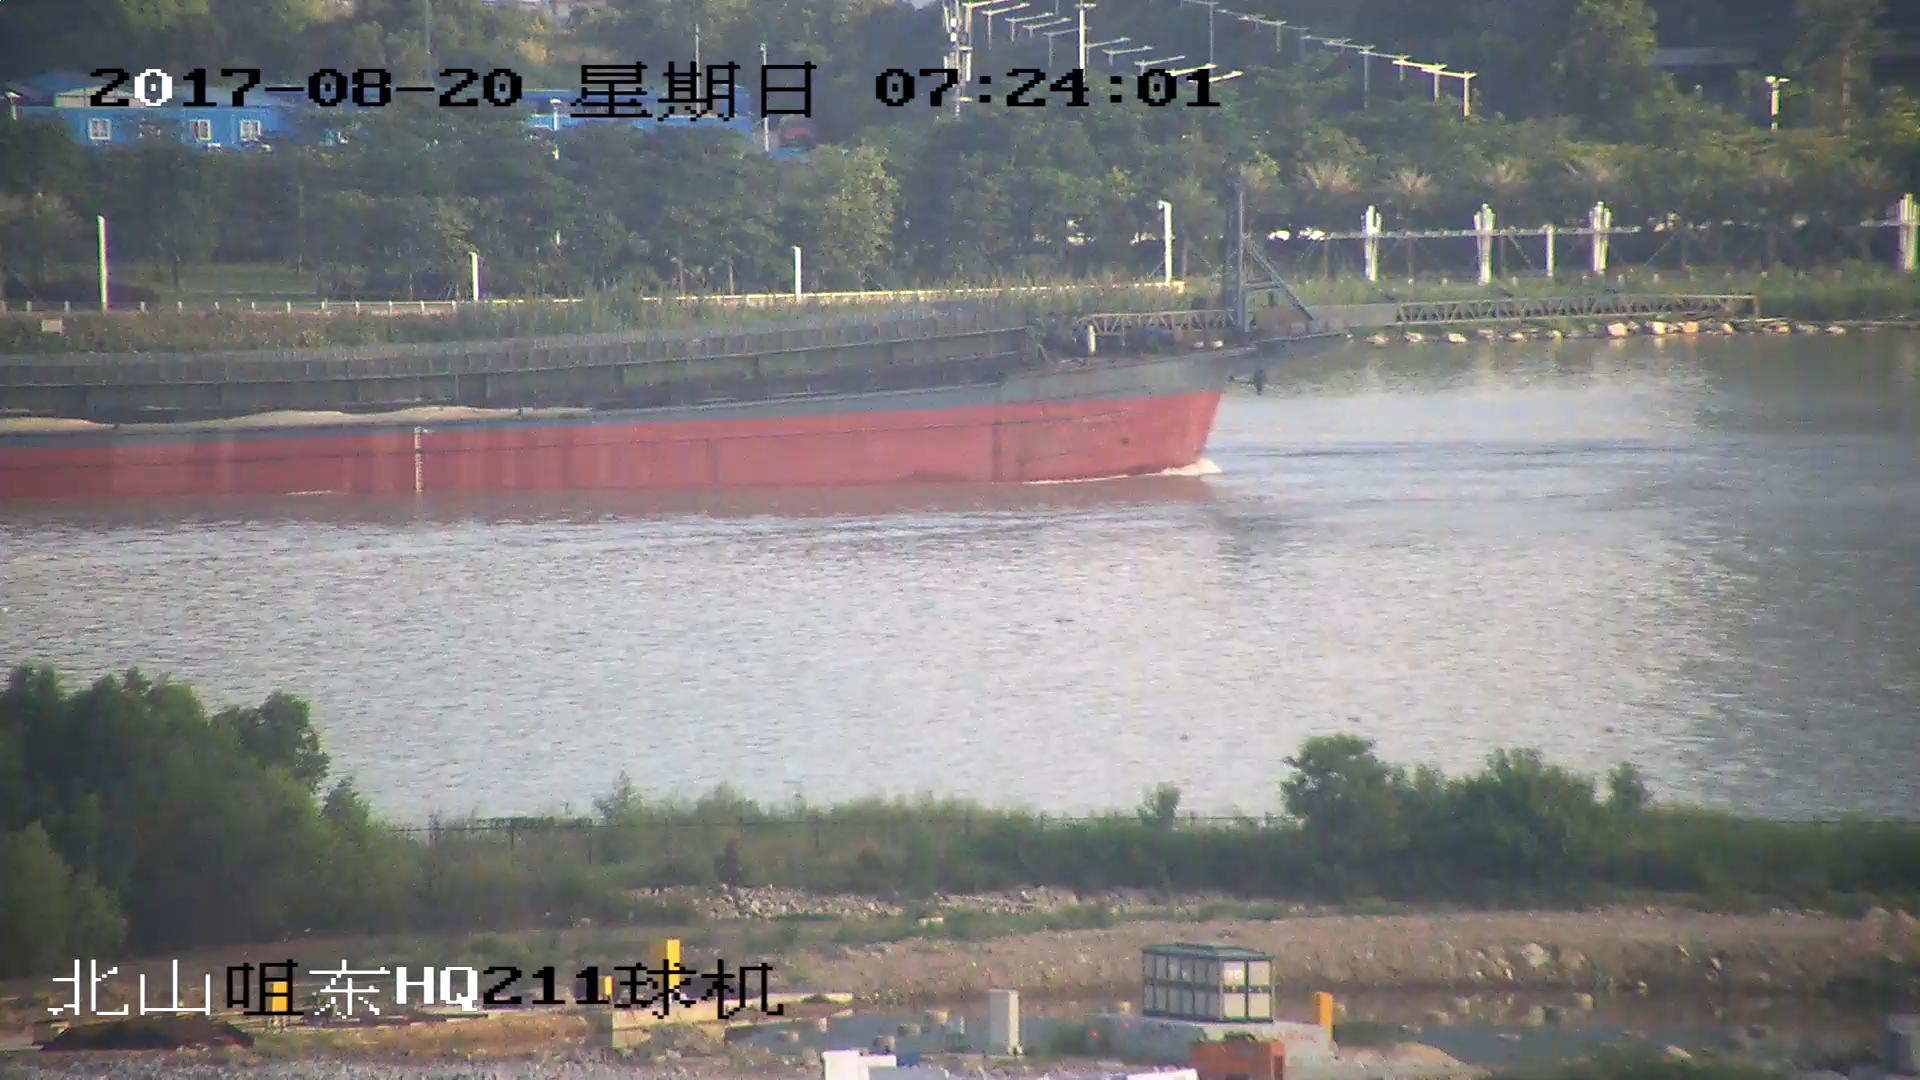bulk cargo carrier: (1, 172, 1737, 505)
